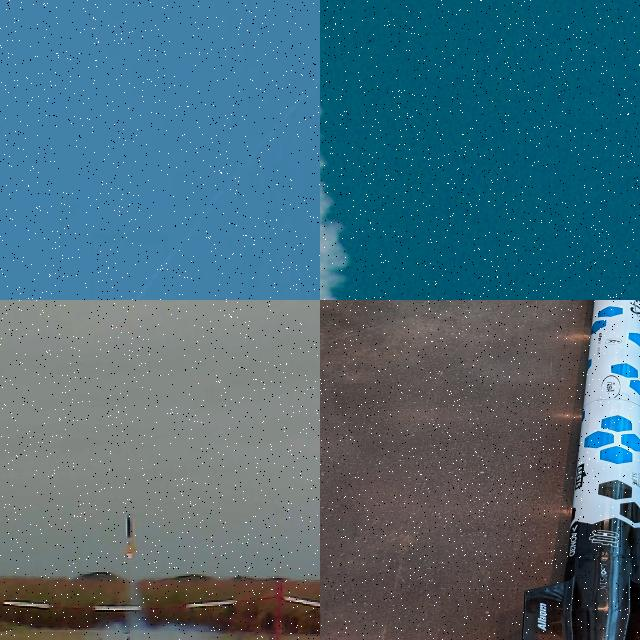Rocket: (521, 300, 640, 640), (122, 514, 138, 554)
